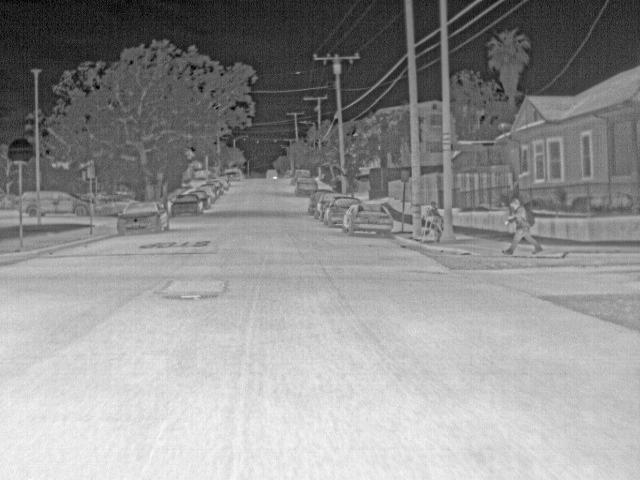car: (116, 200, 171, 235), (344, 201, 393, 235), (41, 190, 88, 218), (170, 192, 203, 215), (325, 195, 346, 226), (19, 188, 37, 218), (316, 192, 333, 218), (192, 189, 213, 208), (197, 182, 220, 199), (306, 190, 320, 216), (223, 165, 245, 181), (293, 180, 311, 198), (206, 179, 225, 195), (213, 174, 229, 190), (264, 169, 280, 182), (294, 168, 311, 180), (284, 168, 296, 181)
person: (501, 196, 543, 256), (426, 200, 441, 216)
